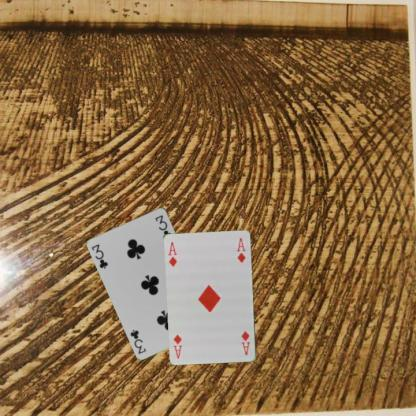3c: (89, 241, 110, 270)
Ad: (239, 328, 251, 357), (166, 239, 178, 268)
